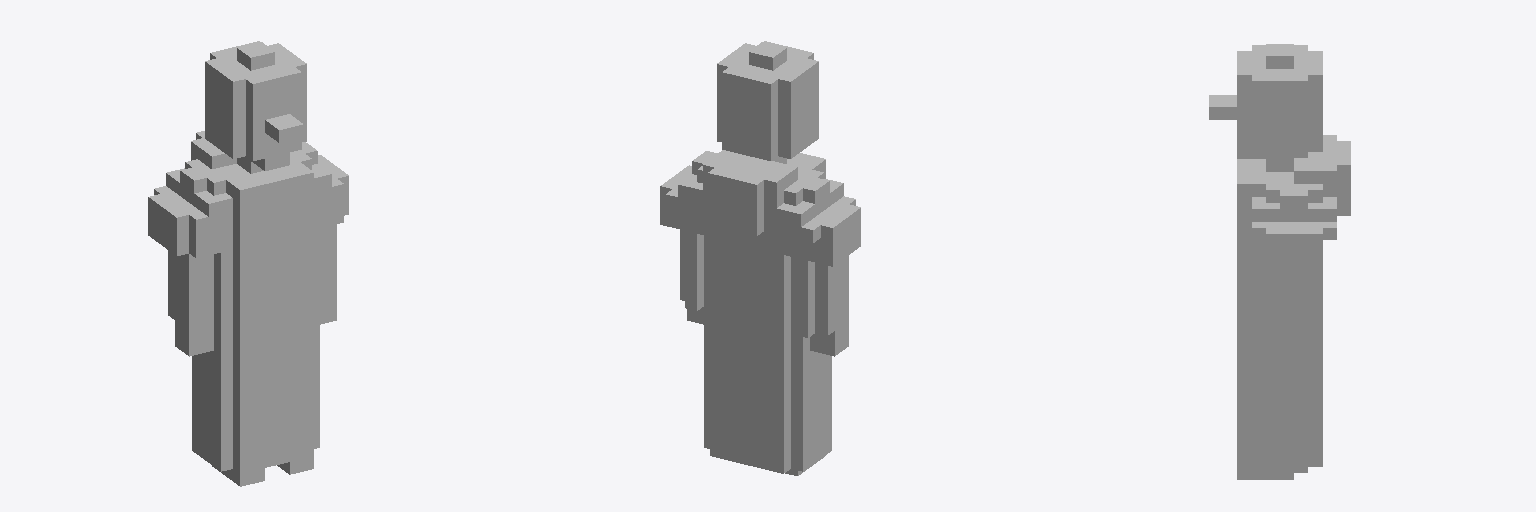
Rendered from Monkv2 3.obj.
3 views of the same model, side by side, from view 1: azimuth 30°, elevation 25°; view 2: azimuth 150°, elevation 25°; view 3: azimuth 270°, elevation 25° (orthographic).
Parts seen in each view (by area): view 1: Monkv2 3; view 2: Monkv2 3; view 3: Monkv2 3.
Boxes of the visible parts, x1=… form: Monkv2 3: x1=148, y1=41, x2=348, y2=486; Monkv2 3: x1=660, y1=41, x2=860, y2=475; Monkv2 3: x1=1209, y1=44, x2=1350, y2=479.
Size of the model in its own units: 0.7 by 1.6 by 0.5.